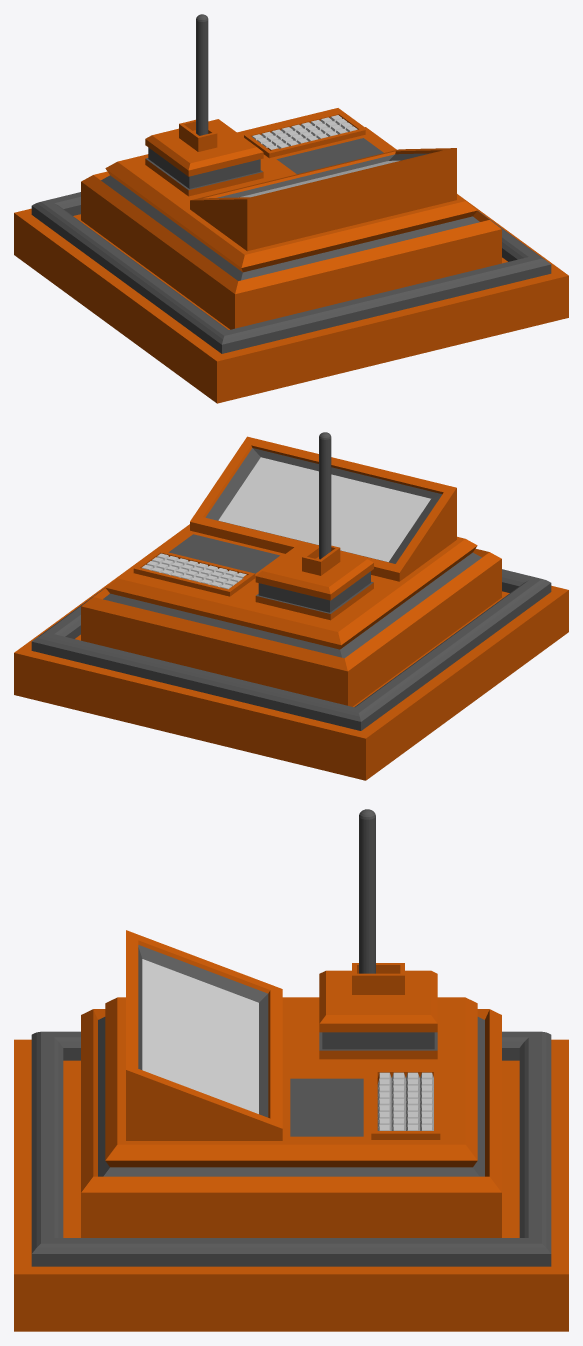
Rendered from Switches.fbx.
The picture shows the model from 3 angles, top to bottom: view 1: azimuth 30°, elevation 25°; view 2: azimuth 150°, elevation 25°; view 3: azimuth 270°, elevation 25°; orthographic projection. The views are drawn at different scales.
Visible parts, largest first — view 1: Cube, Cylinder; view 2: Cube, Cylinder; view 3: Cube, Cylinder.
Boxes of the visible parts, x1,y1,x2,y2 form: Cube: [14, 108, 568, 403]; Cylinder: [196, 14, 208, 135]; Cube: [14, 436, 568, 780]; Cylinder: [319, 432, 331, 559]; Cube: [14, 930, 568, 1331]; Cylinder: [359, 809, 375, 973].
Size of the model in its own units: 1 by 0.7222 by 1.
